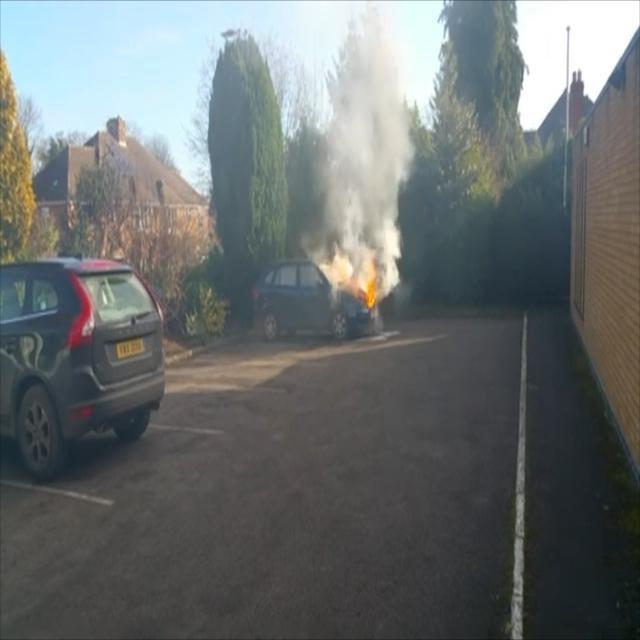fire: (327, 245, 384, 311)
